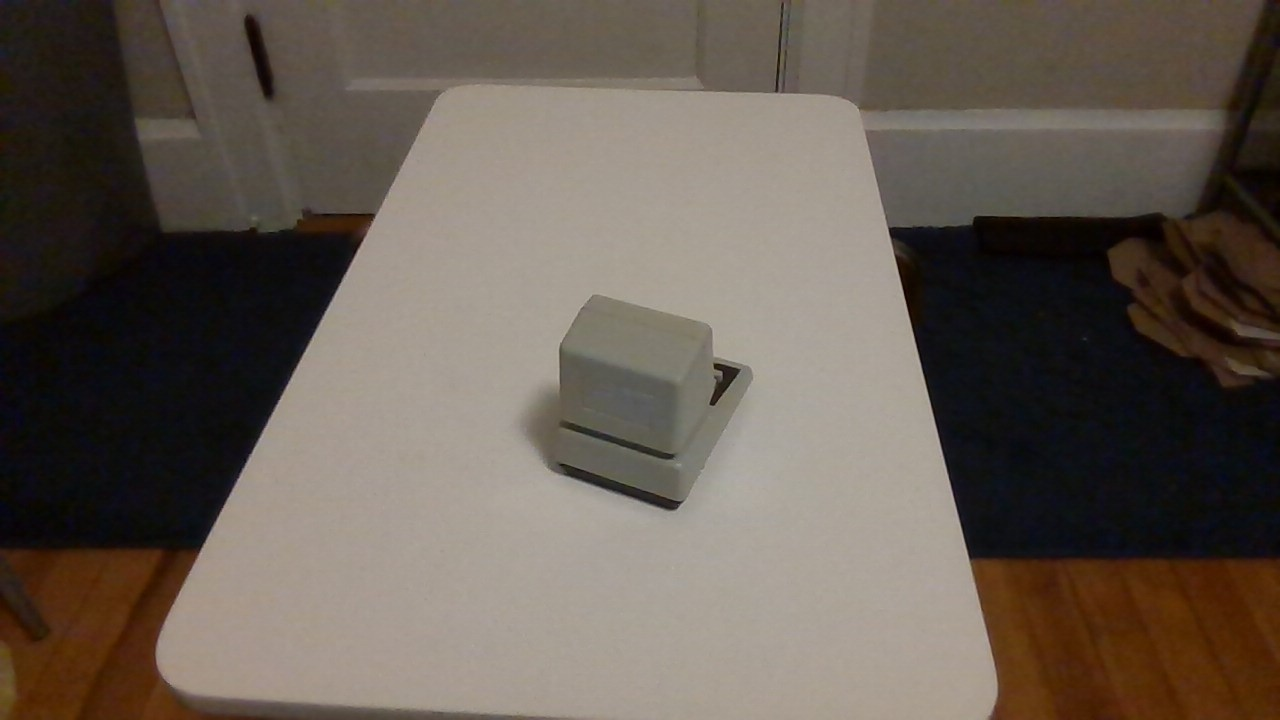Toy: (528, 266, 768, 534)
